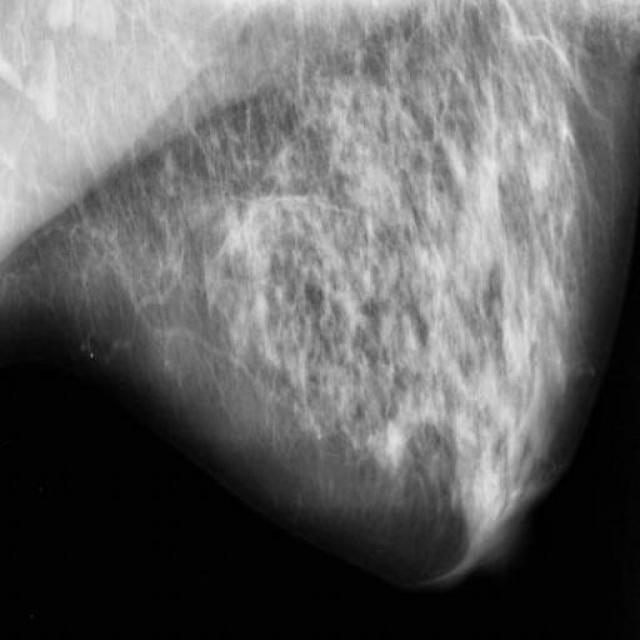cancer: (203, 200, 247, 286)
